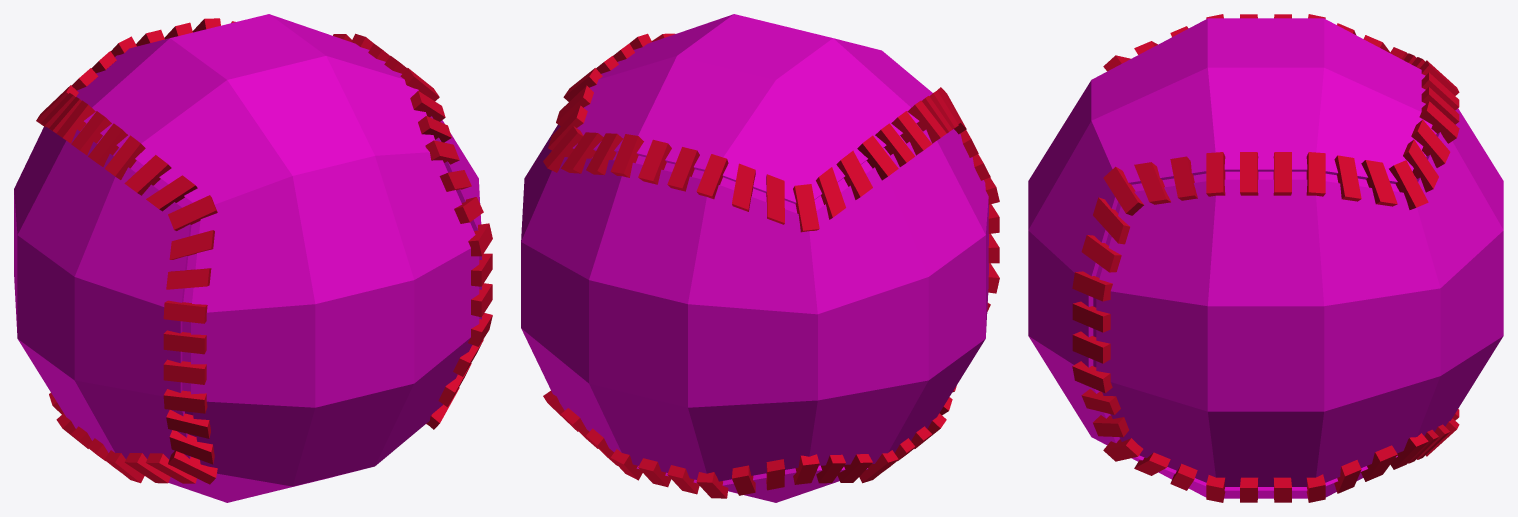
Rendered from Baseball_01.fbx.
The picture shows the model from 3 angles, left to right: view 1: azimuth 30°, elevation 25°; view 2: azimuth 150°, elevation 25°; view 3: azimuth 270°, elevation 25°; orthographic projection.
Parts seen in each view (by area): view 1: Baseball_01; view 2: Baseball_01; view 3: Baseball_01.
Part boxes in pixels (bbox=[...]): Baseball_01: bbox=[14, 14, 492, 502]; Baseball_01: bbox=[521, 14, 999, 502]; Baseball_01: bbox=[1028, 14, 1503, 502].
Size of the model in its own units: 4.31 by 4.31 by 4.31.
